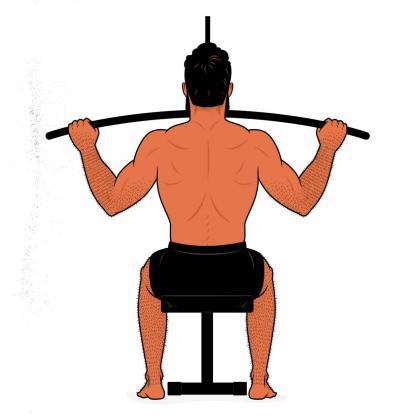Lat Pull Down: (37, 11, 373, 402)
